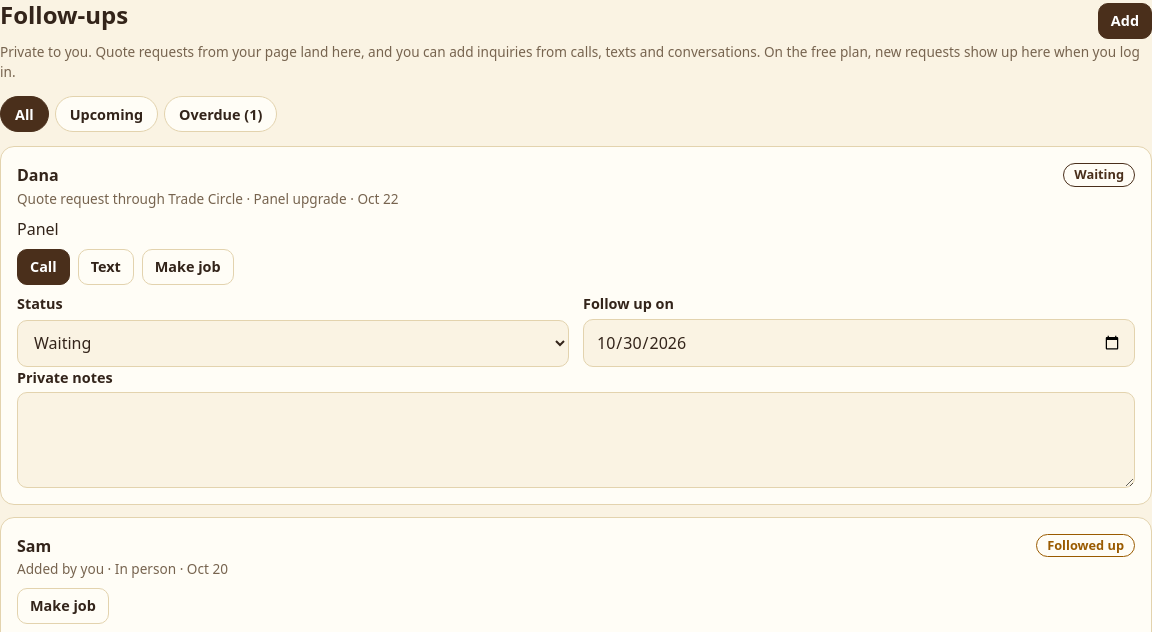
Follow-up tracker › turns an entry into a job and marks it won
Click the button "Make job" below "Dana" at (188, 267), box [142, 249, 234, 285]
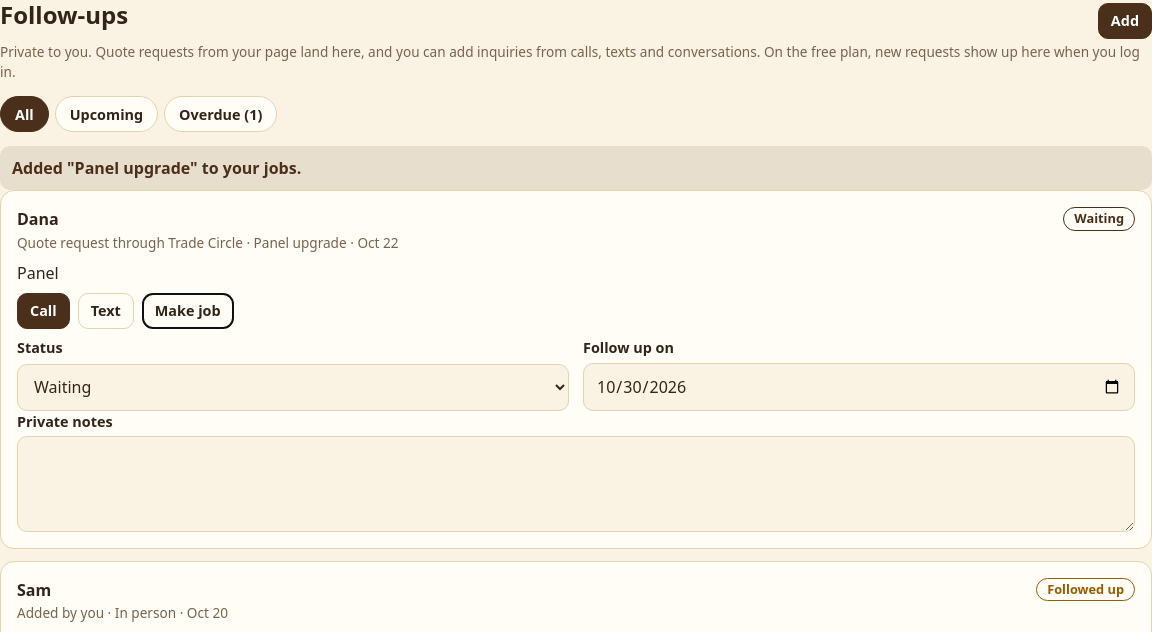
expect the text "Added \"Panel upgrade\" to your jobs." is shown: met, box [0, 146, 1151, 190]
